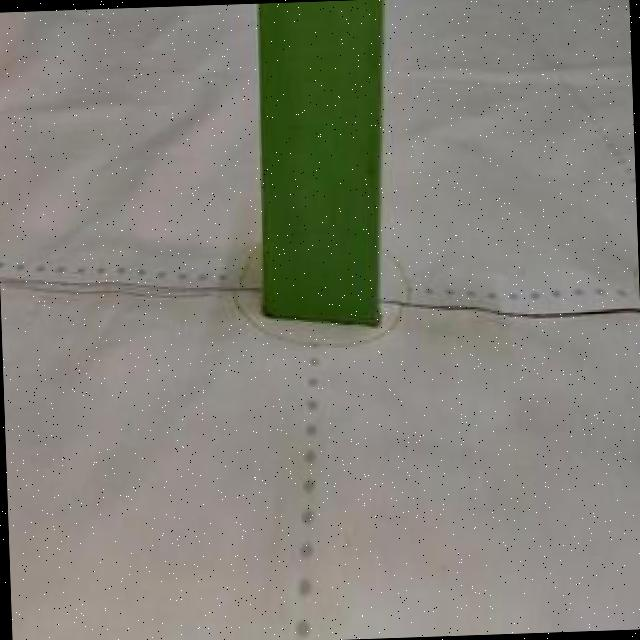greenbox: (245, 0, 401, 326)
